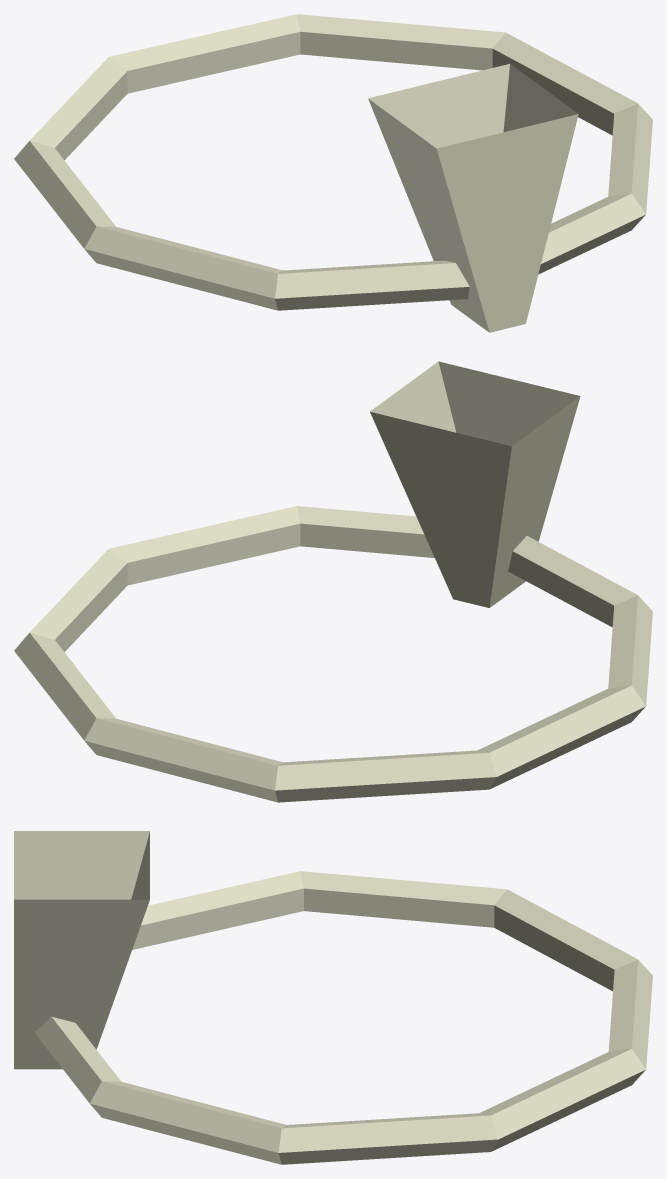
3 renders of one model, top to bottom at view 1: azimuth 30°, elevation 25°; view 2: azimuth 150°, elevation 25°; view 3: azimuth 270°, elevation 25°, orthographic.
Parts seen in each view (by area): view 1: towel ring; view 2: towel ring; view 3: towel ring.
Part boxes in pixels (left/top/right/bottom): towel ring: left=14, top=14, right=652, bottom=332; towel ring: left=14, top=361, right=652, bottom=802; towel ring: left=14, top=831, right=652, bottom=1164.
Size of the model in its own units: 10.57 by 3.56 by 10.57.
